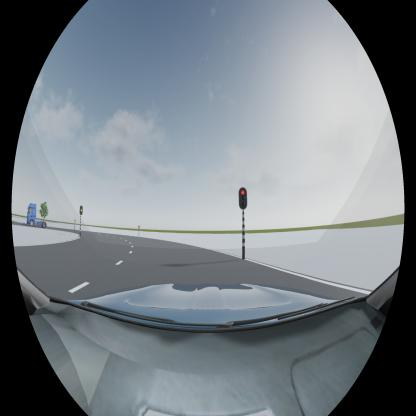Red Light: (239, 187, 246, 210)
